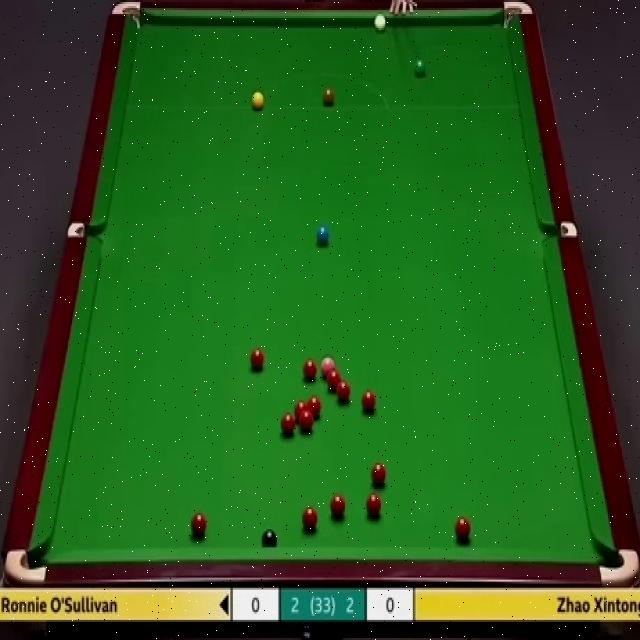black-ball: (263, 528, 281, 548)
blue-ball: (316, 226, 330, 244)
brown-ball: (322, 88, 336, 111)
green-ball: (415, 59, 425, 73)
pink-ball: (321, 356, 335, 376)
red-ball: (453, 514, 472, 538), (189, 512, 207, 537), (330, 491, 346, 519), (371, 462, 387, 489), (280, 412, 296, 437), (307, 396, 323, 421), (302, 507, 318, 531), (250, 348, 264, 372), (367, 494, 382, 516), (300, 411, 314, 432), (361, 392, 376, 410), (294, 402, 308, 421), (327, 369, 340, 389), (337, 383, 349, 404), (302, 359, 315, 378)
white-ball: (374, 14, 385, 31)
yellow-ball: (252, 91, 264, 111)
